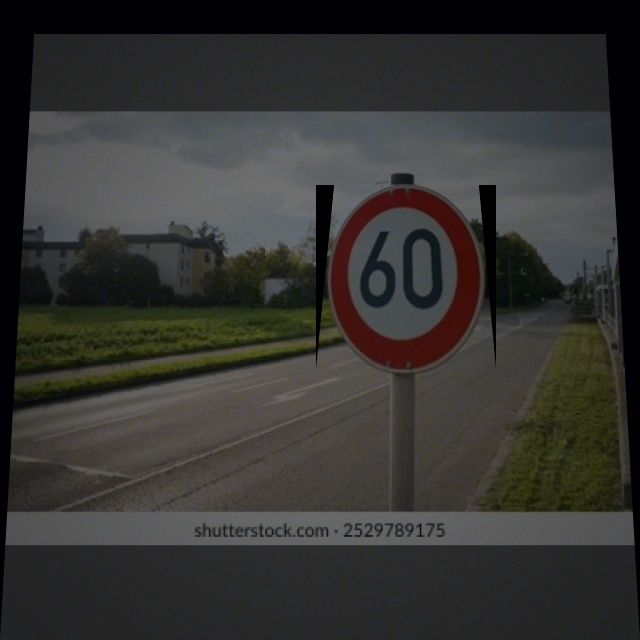Speed_Limit_60: (316, 185, 496, 369)
